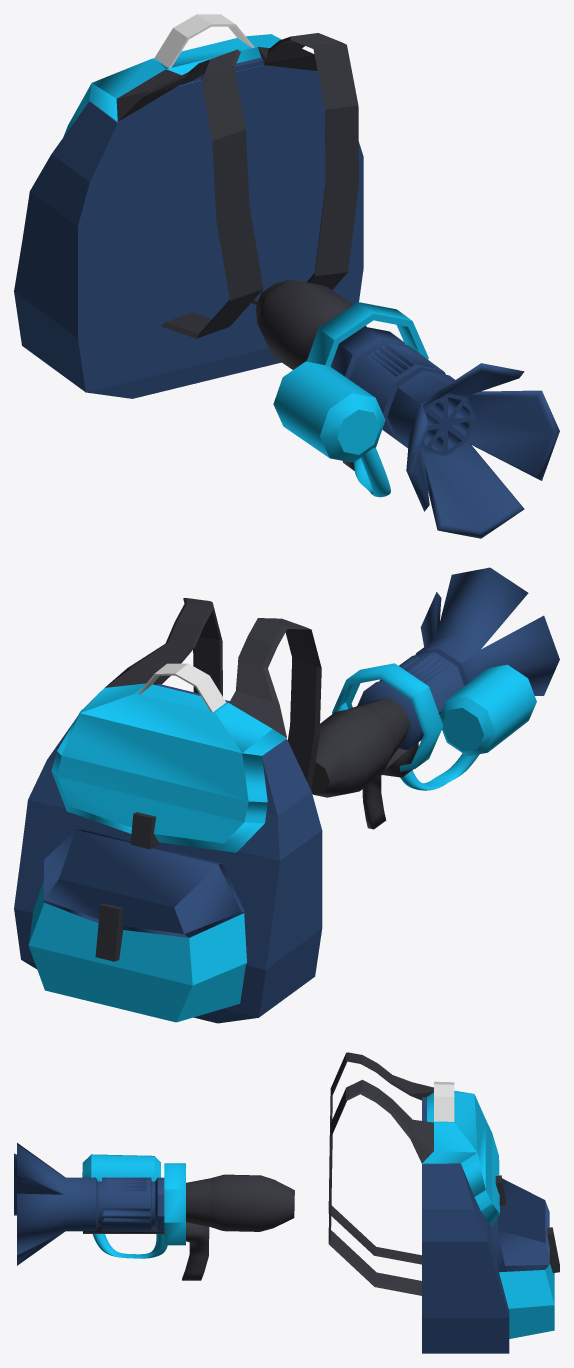
File: bag.fbx
The picture shows the model from 3 angles, top to bottom: view 1: azimuth 30°, elevation 25°; view 2: azimuth 150°, elevation 25°; view 3: azimuth 270°, elevation 25°; orthographic projection. The views are drawn at different scales.
Parts seen in each view (by area): view 1: Cube, gun_1, Cube_7, Cube_1, Cube_6; view 2: gun_1, Cube_1, Cube, Cube_2, Cube_3, Cube_7, Cube_6, Cube_4, Cube_5; view 3: gun_1, Cube, Cube_7, Cube_1, Cube_3, Cube_2, Cube_6, Cube_4.
Boxes of the visible parts, box(x1,y1,x2,y2) form: Cube: box(14, 57, 363, 398); gun_1: box(256, 280, 559, 538); Cube_7: box(116, 33, 358, 338); Cube_1: box(63, 34, 281, 136); Cube_6: box(154, 14, 254, 68); gun_1: box(311, 567, 559, 829); Cube_1: box(51, 683, 286, 852); Cube: box(14, 684, 322, 1023); Cube_2: box(28, 881, 246, 1022); Cube_3: box(43, 829, 244, 937); Cube_7: box(105, 598, 321, 789); Cube_6: box(138, 663, 225, 712); Cube_4: box(95, 903, 123, 961); Cube_5: box(130, 812, 159, 849); gun_1: box(14, 1143, 294, 1280); Cube: box(422, 1097, 509, 1353); Cube_7: box(328, 1052, 433, 1295); Cube_1: box(422, 1090, 499, 1225); Cube_3: box(490, 1178, 549, 1272); Cube_2: box(499, 1263, 554, 1338); Cube_6: box(434, 1081, 454, 1121); Cube_4: box(547, 1227, 559, 1273).
Bounding box in the file's own units: 94.7 × 116 × 229.
